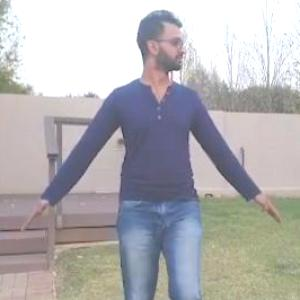land: (1, 12, 279, 299)
